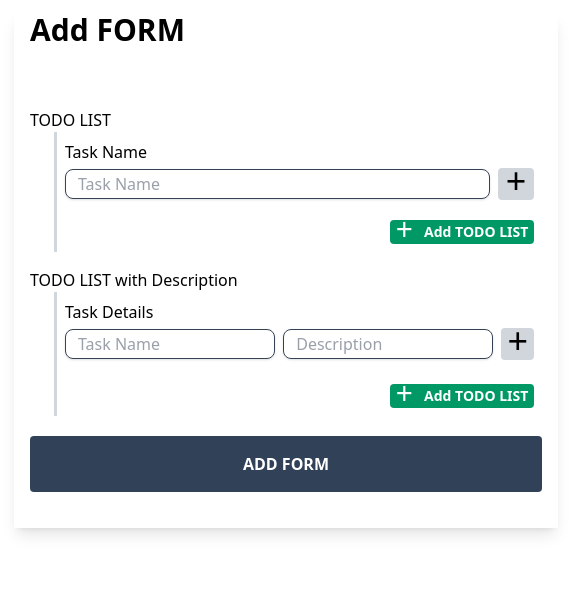
App Component › Simple Todo List › should add a new todo when clicking + button
Type "Test Todo" into the 1st field with placeholder "Task Name" at (278, 184), box [65, 169, 490, 199]
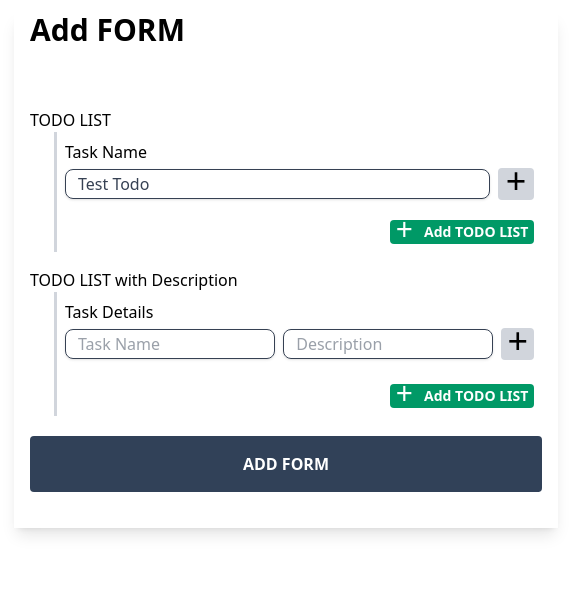
Click the button with test id "add-initial-todo" at (516, 184), box [498, 168, 534, 200]
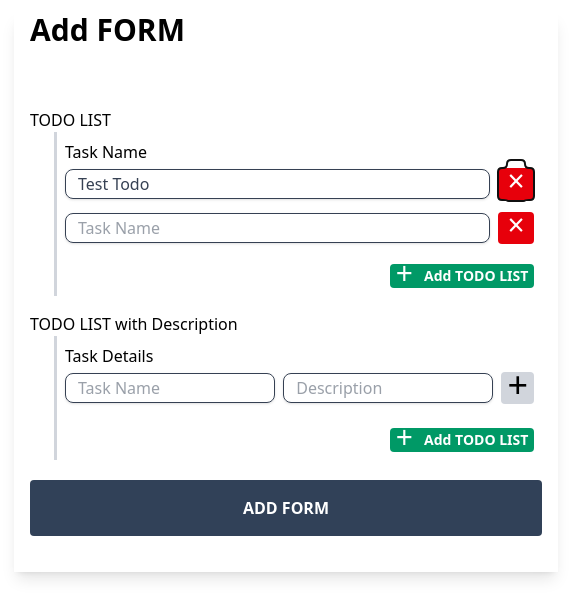
Check: the number of fields with placeholder "Task Name" is 3, box [65, 169, 490, 199]; [65, 213, 490, 243]; [65, 373, 275, 403]
